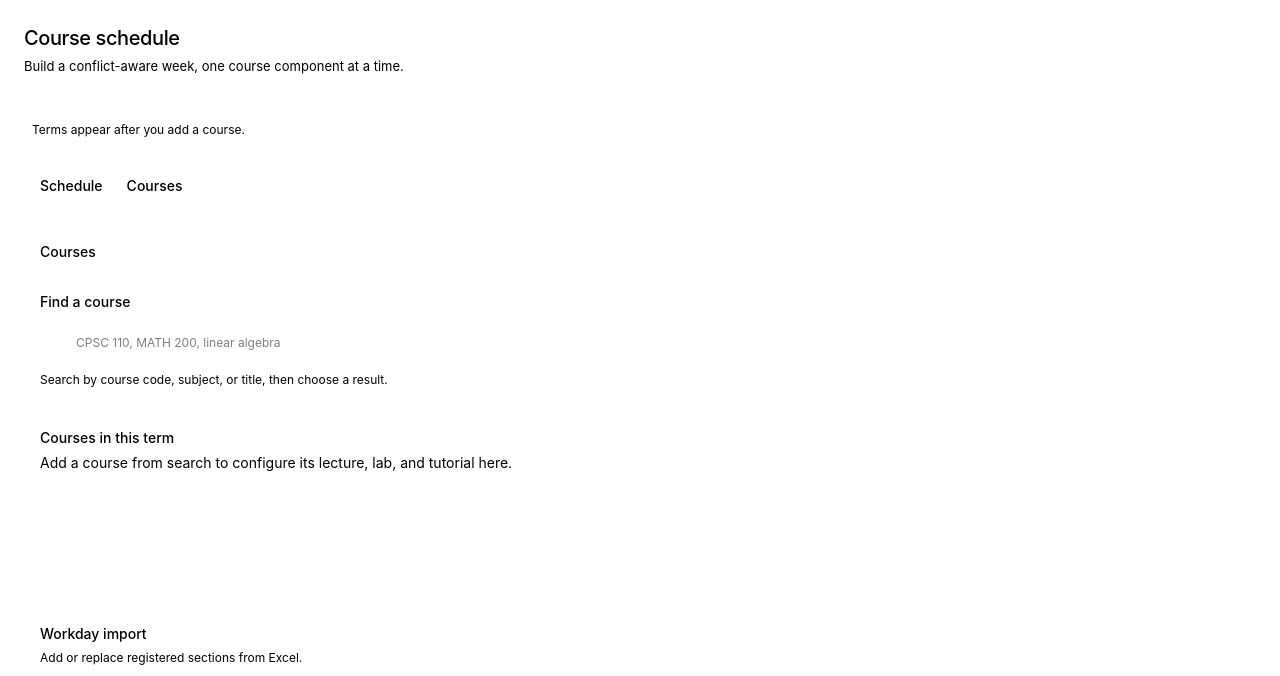
it: SchedulePlannerPane explicit course flow › does not derive terms or course modules from a discovery record
This screenshot has width=1280, height=676.
Type "CPSC 110" into the dropdown. click: (640, 342)
box: left=40, top=320, right=1240, bottom=364
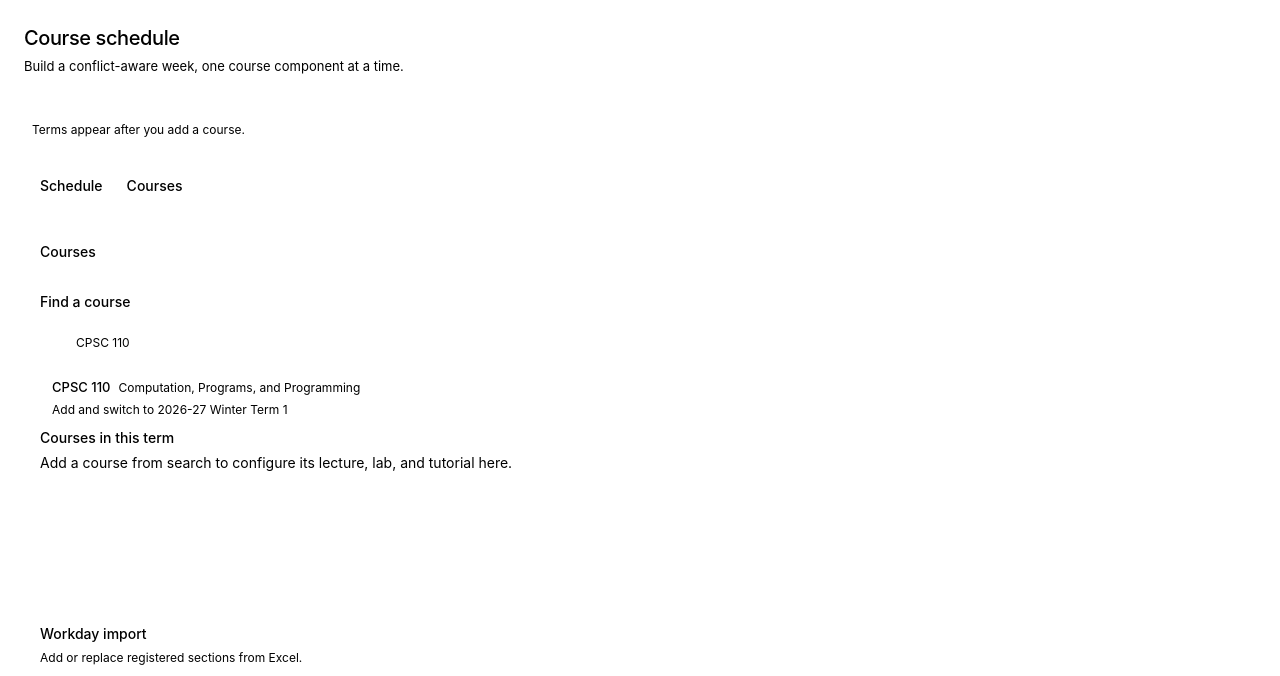
Expected: the text "Terms appear after you add a course." is shown, left=32, top=122, right=245, bottom=137
Now the option "CPSC 110" is shown, box left=40, top=372, right=1240, bottom=424
